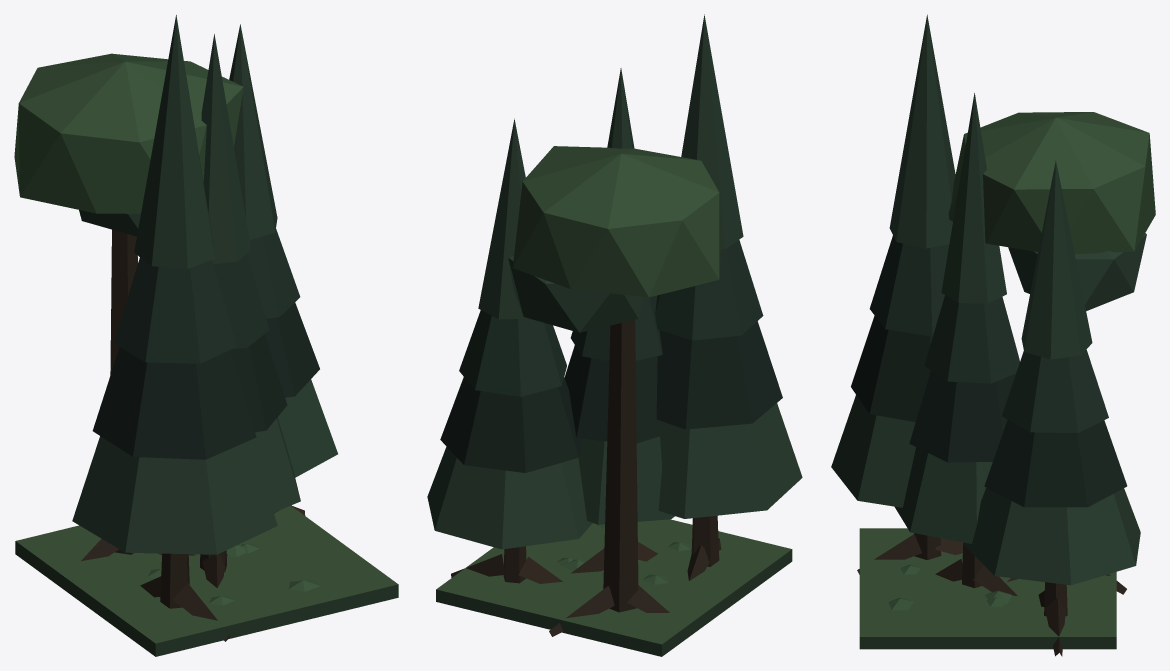
Rendered from forest_2b.glb.
The picture shows the model from 3 angles, left to right: view 1: azimuth 30°, elevation 25°; view 2: azimuth 150°, elevation 25°; view 3: azimuth 270°, elevation 25°; orthographic projection. The views are drawn at different scales.
Parts seen in each view (by area): view 1: forest_2b; view 2: forest_2b; view 3: forest_2b.
Part boxes in pixels (box(x1,y1,x2,y2)): forest_2b: box(14, 15, 398, 656); forest_2b: box(427, 14, 802, 656); forest_2b: box(831, 14, 1155, 656).
Size of the model in its own units: 2.39 by 4.52 by 2.4.
